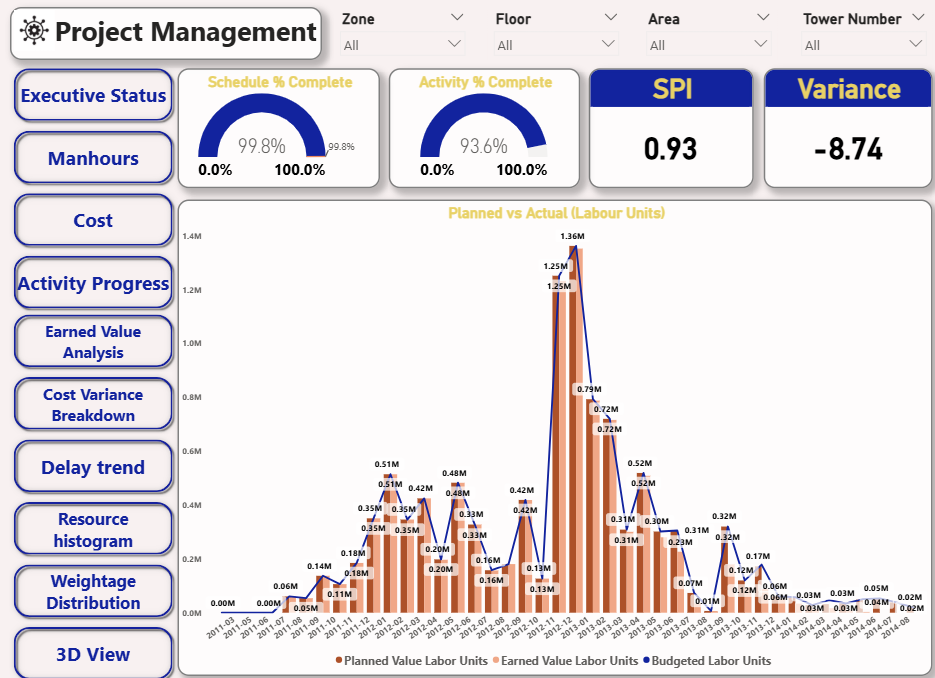

Layout of this report page (visuals, bound fields, positions):
{"tool":"powerbi","page":{"name":"Manhours","canvas":[1500,1100],"ordinal":1},"visuals":[{"type":"card","title":"SPI","fields":{"Values":["Sum(Summary_Table.SPI)"]},"box":[942,114,264,192],"z":4000},{"type":"card","title":"Variance","fields":{"Values":["Sum(Summary_Table.Variance)"]},"box":[1222,114,270,192],"z":5000},{"type":"textbox","box":[15.2,16.2,499.3,84.6],"z":6000},{"type":"image","box":[15.2,16.9,77.9,74.5],"z":7000},{"type":"slicer","fields":{"Values":["Floorcodes_Table.Floor Code Value"]},"box":[780.3,16.9,220,84.6],"z":8000},{"type":"slicer","fields":{"Values":["H areas_Table.H aresCode Value"]},"box":[1024,16.9,220,84.6],"z":9000},{"type":"slicer","fields":{"Values":["Aug14tasks_Table.Zone Number"]},"box":[534.9,16.9,220,84.6],"z":10000},{"type":"slicer","fields":{"Values":["Task_Table.Tower Number"]},"box":[1272.9,16.9,220,84.6],"z":11000},{"type":"gauge","fields":{"Y":["Aug14tasks_Table.ActivityPercent"]},"box":[622,114,306,192],"z":12000},{"type":"gauge","title":"Schedule % Complete","fields":{"Y":["Aug14tasks_Table.SchedulePercent"]},"box":[284,114,324,192],"z":13000},{"type":"lineClusteredColumnComboChart","title":"Planned vs Actual (Labour Units)","fields":{"Y":["Sum(Task_Table.Planned Value Labor Units)","Sum(Task_Table.Earned Value Labor Units)","select"],"Y2":["Sum(Task_Table.Budgeted Labor Units)"],"Category":["Task_Table.MonthYear"]},"box":[284,324,1208,762],"z":16000},{"type":"actionButton","box":[14,106,270,100],"z":20000},{"type":"actionButton","box":[14,206,270,100],"z":21000},{"type":"actionButton","box":[14,306,270,100],"z":22000},{"type":"actionButton","box":[14,406,270,100],"z":23000},{"type":"actionButton","box":[14,500,270,100],"z":24000},{"type":"actionButton","box":[14,600,270,100],"z":25000},{"type":"actionButton","box":[14,700,270,100],"z":26000},{"type":"actionButton","box":[14,800,270,100],"z":27000},{"type":"actionButton","box":[14,900,270,100],"z":28000},{"type":"actionButton","box":[14,1000,270,100],"z":29000}]}

Visuals, with their boxes in screenshot pixels (x1, y1, x2, y2), scaled from the page's 1500x1100 canvas onto the 935x678 screenshot:
"SPI" card: region(587, 70, 752, 189)
"Variance" card: region(762, 70, 930, 189)
textbox: region(9, 10, 321, 62)
image: region(9, 10, 58, 56)
slicer - Floorcodes_Table.Floor Code Value: region(486, 10, 624, 63)
slicer - H areas_Table.H aresCode Value: region(638, 10, 775, 63)
slicer - Aug14tasks_Table.Zone Number: region(333, 10, 471, 63)
slicer - Task_Table.Tower Number: region(793, 10, 931, 63)
gauge - Aug14tasks_Table.ActivityPercent: region(388, 70, 578, 189)
"Schedule % Complete" gauge: region(177, 70, 379, 189)
"Planned vs Actual (Labour Units)" lineClusteredColumnComboChart: region(177, 200, 930, 669)
actionButton: region(9, 65, 177, 127)
actionButton: region(9, 127, 177, 189)
actionButton: region(9, 189, 177, 250)
actionButton: region(9, 250, 177, 312)
actionButton: region(9, 308, 177, 370)
actionButton: region(9, 370, 177, 431)
actionButton: region(9, 431, 177, 493)
actionButton: region(9, 493, 177, 555)
actionButton: region(9, 555, 177, 616)
actionButton: region(9, 616, 177, 677)
